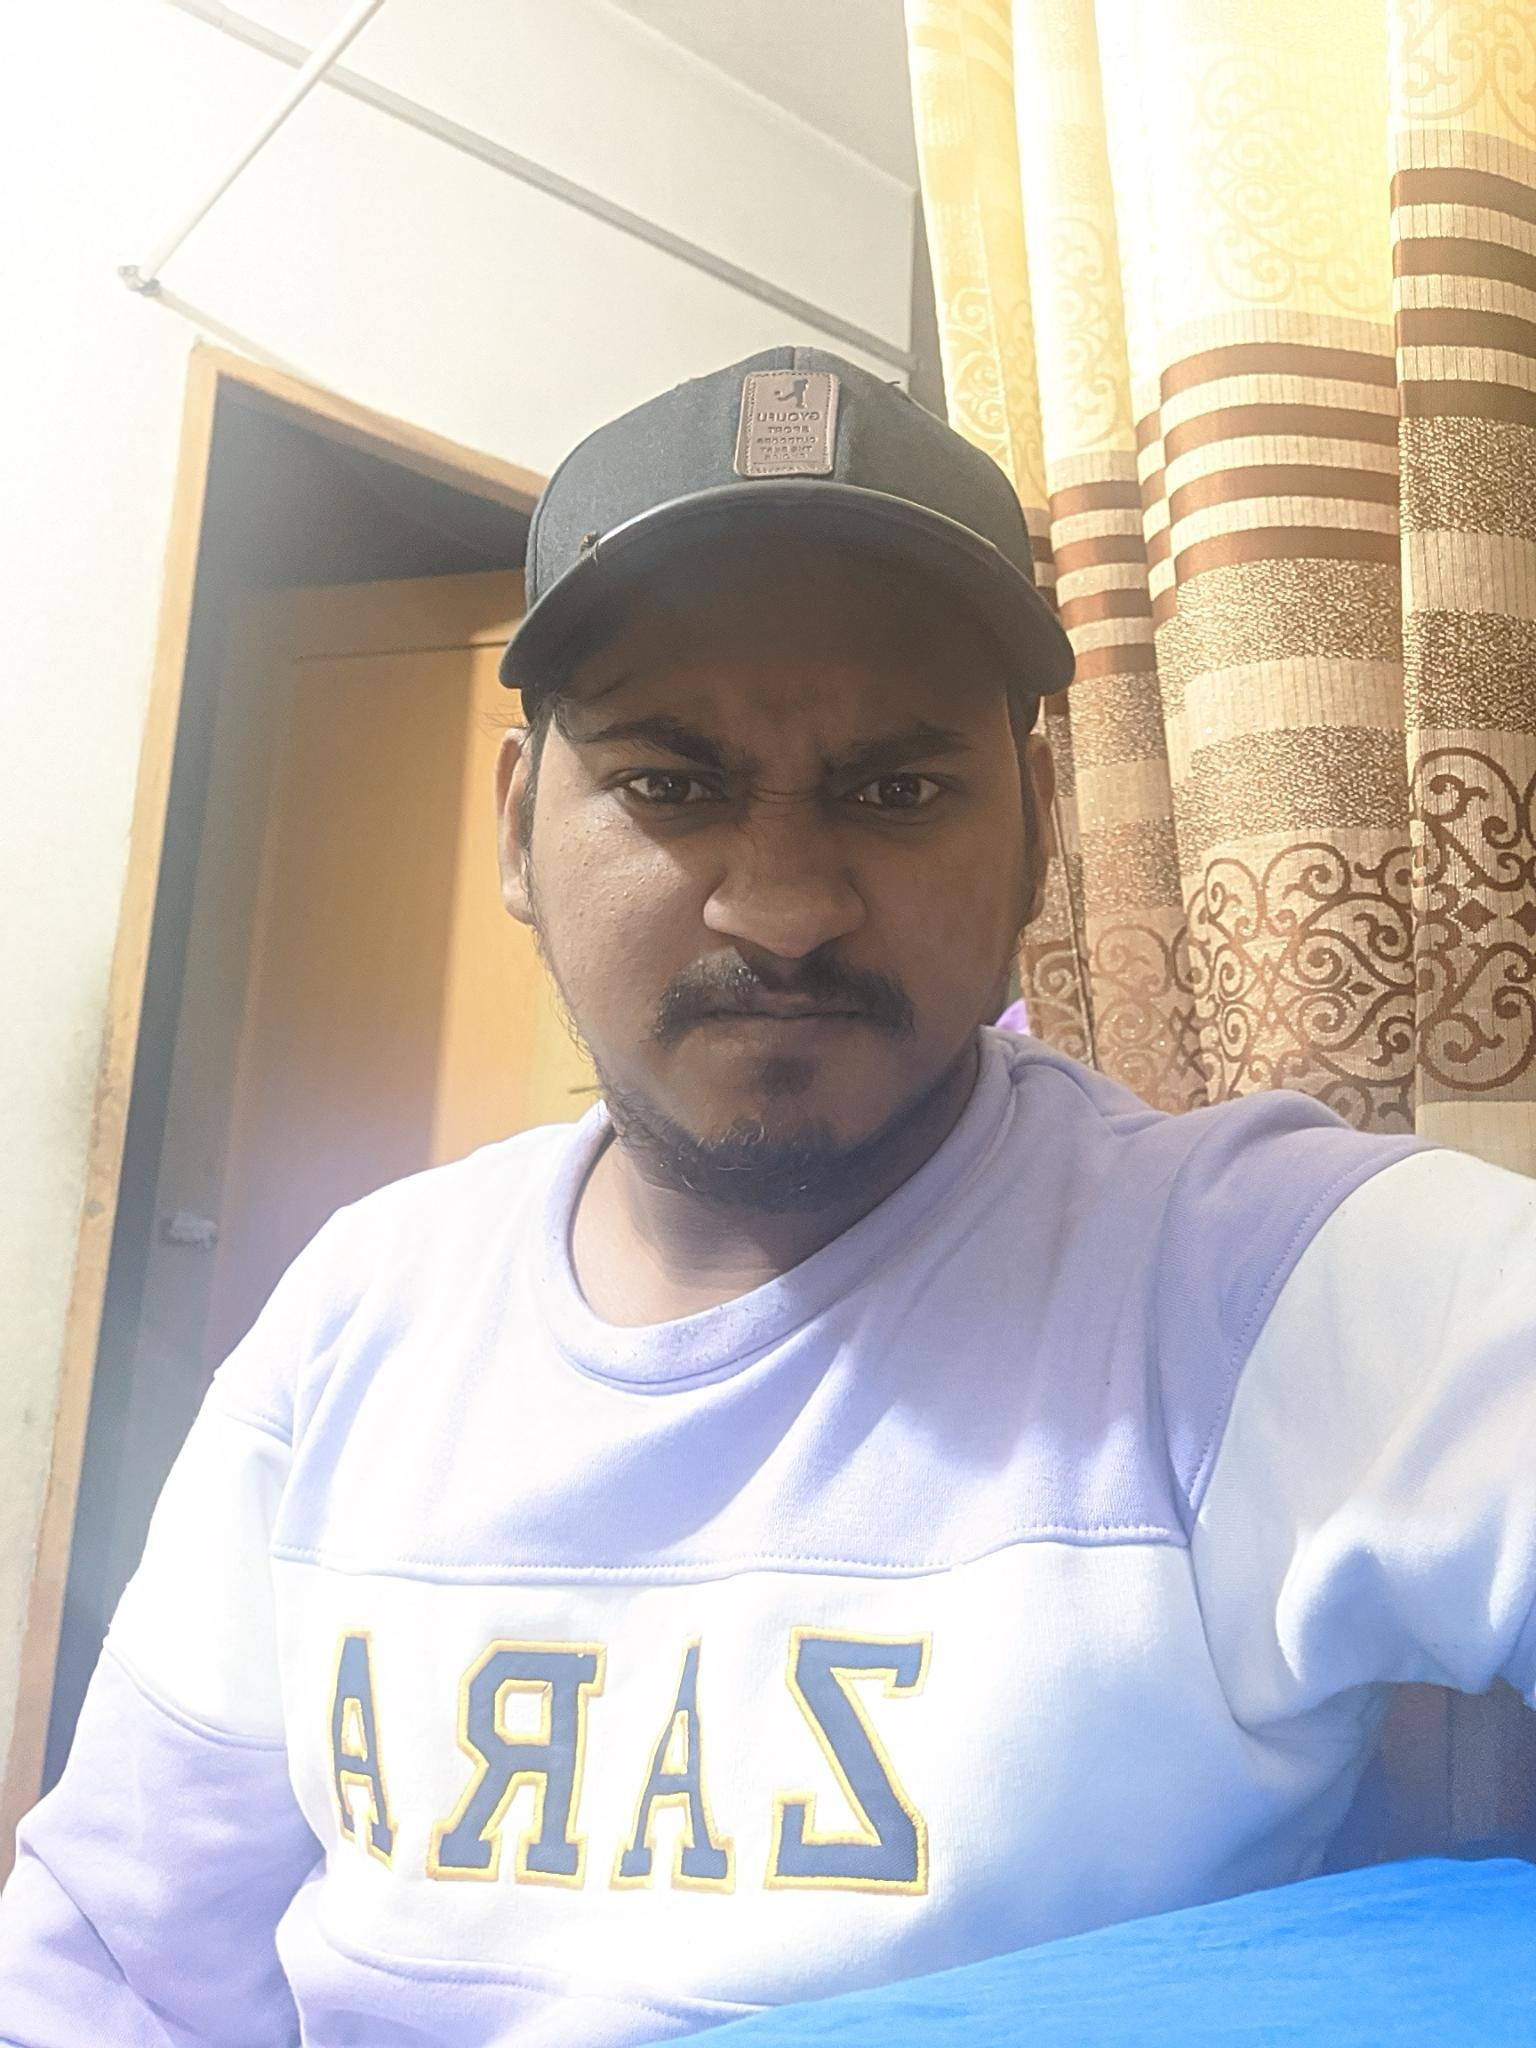Angry: (578, 671, 999, 1161)
